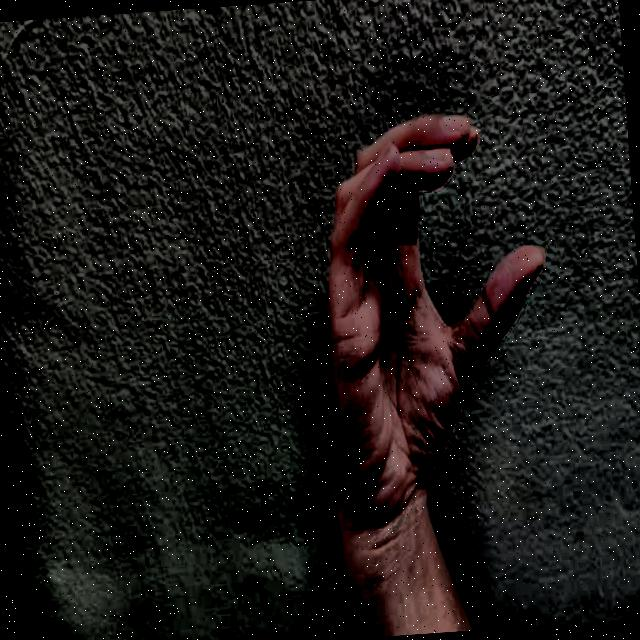A: (282, 78, 584, 564)
